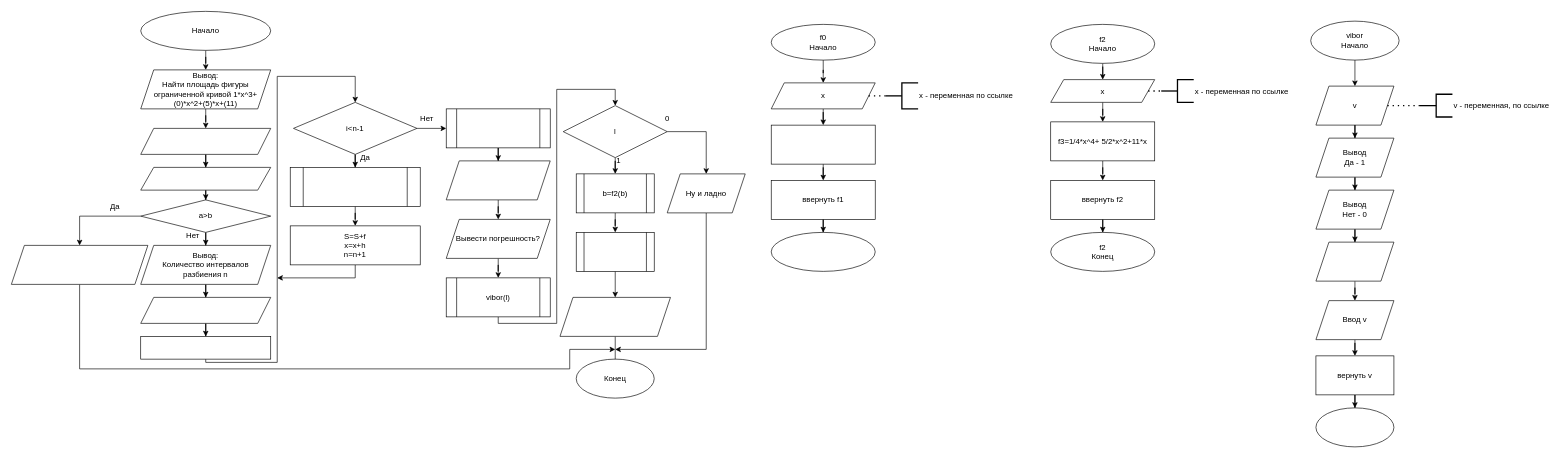
This 1561x458 diagram has some shape labels left out. The shapes that lost their labels are listed below. From the top down, each one's box as (x1, y1, x2, y2) in pixels, then its label:
(140, 128, 271, 154): Вывод: Введите пределы интегрирования при a<b
(446, 108, 550, 148): S=(h*(f0(a)+f0(b)))/2+s
(771, 124, 875, 164): f1:=1*x^3+(0)*x^2+(5)*x+(11)
(140, 167, 271, 190): Ввод: a,b
(290, 167, 420, 206): f=f0(x)
(446, 160, 550, 200): Вывод: "Ответ", S
(11, 245, 148, 284): a не может быть больше b
(576, 232, 654, 271): a=f2(a)
(771, 232, 875, 271): f0 Конец
(1315, 241, 1394, 281): Вывод Выберите вариант
(140, 297, 271, 323): Ввод: n
(559, 297, 670, 336): Вывод: "Погрешность = ", |b-a-S|
(140, 336, 271, 359): h=(b-a)/n x= a+h
(1315, 407, 1394, 447): vibor Конец
